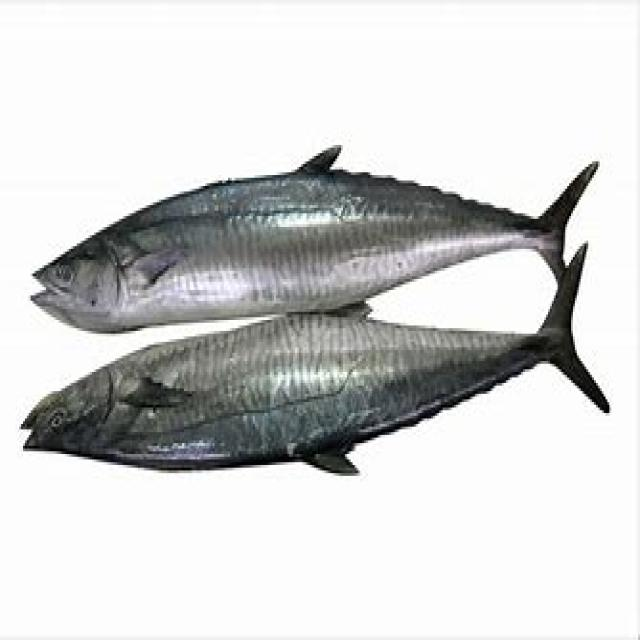seer: (20, 238, 610, 476), (31, 140, 599, 332)
